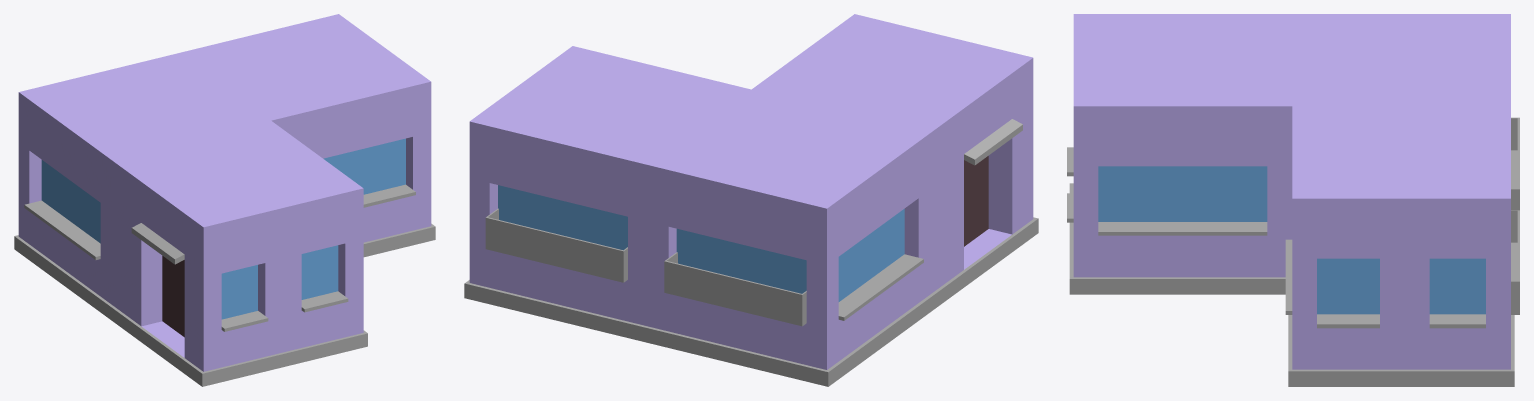
The model's file is building_L_5_g.glb.
The picture shows the model from 3 angles, left to right: view 1: azimuth 30°, elevation 25°; view 2: azimuth 150°, elevation 25°; view 3: azimuth 270°, elevation 25°; orthographic projection. The views are drawn at different scales.
Visible parts, largest first — view 1: Cube; view 2: Cube; view 3: Cube.
Part boxes in pixels (x1,y1,x2,y2): Cube: (14,14,435,386); Cube: (464,14,1038,386); Cube: (1067,14,1519,386).
Size of the model in its own units: 3.55 by 1.6 by 3.52.
